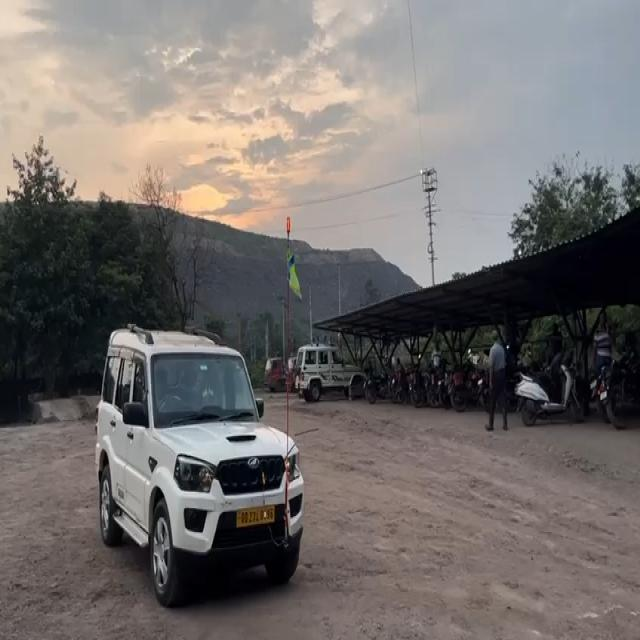light_vehicle: (92, 325, 304, 587), (296, 336, 358, 402)
